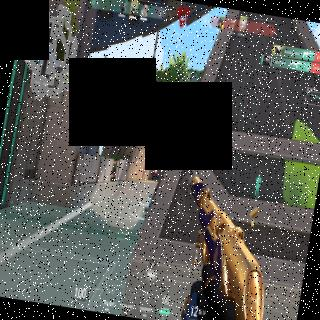ENEMY-BODY: (150, 159, 160, 182)
ENEMY-HEAD: (155, 160, 158, 166)
